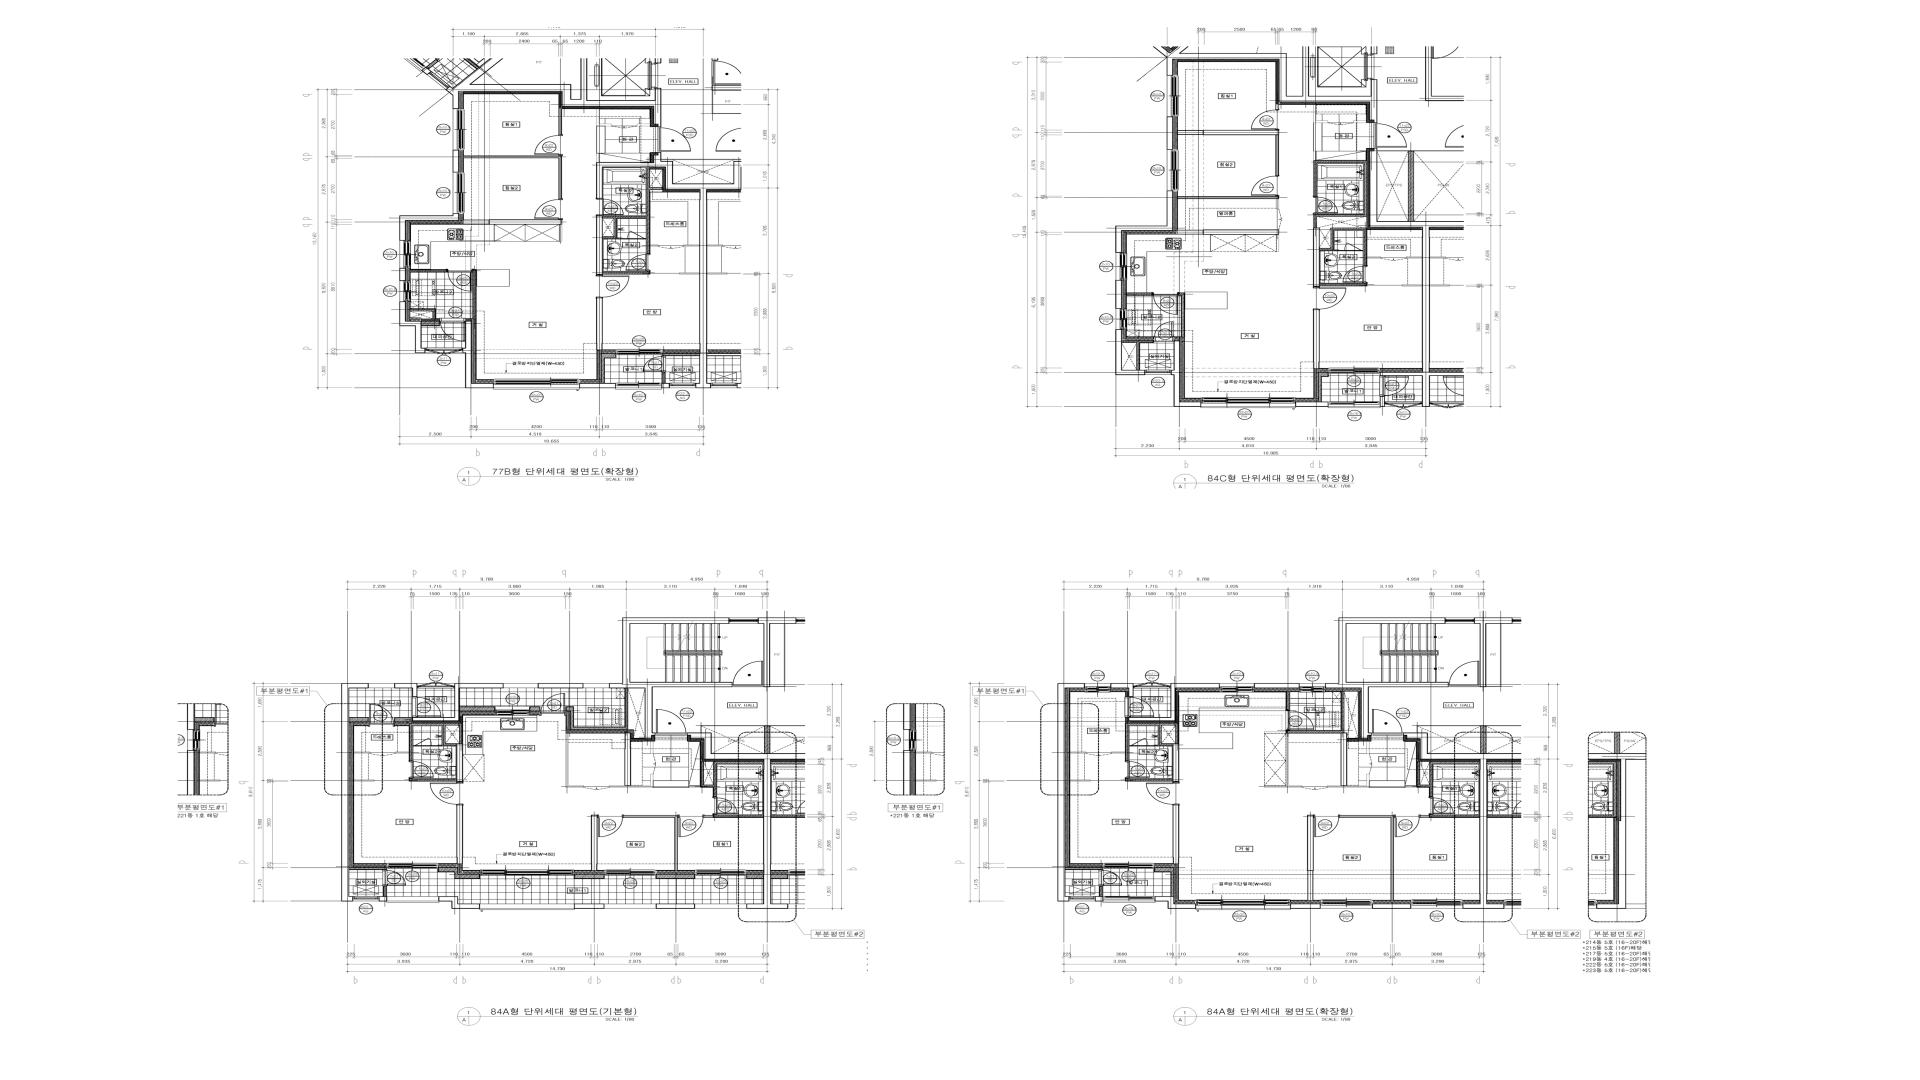door: (1449, 660, 1480, 687), (655, 709, 687, 735), (732, 661, 764, 687), (1374, 123, 1407, 148), (658, 127, 691, 152), (1146, 781, 1180, 805), (1313, 286, 1347, 310), (596, 274, 630, 298), (1372, 709, 1403, 735), (430, 782, 463, 805), (597, 814, 624, 837), (1152, 292, 1179, 315), (1313, 814, 1340, 837), (1251, 175, 1280, 196), (1251, 109, 1280, 130), (540, 693, 566, 716), (678, 814, 704, 837), (412, 697, 441, 717), (1125, 697, 1154, 717), (1380, 376, 1409, 396), (534, 135, 563, 155), (534, 199, 563, 219), (440, 318, 465, 341), (369, 703, 394, 726), (1394, 815, 1420, 837), (1286, 710, 1314, 730), (447, 269, 472, 291), (596, 198, 624, 215), (1343, 265, 1368, 283), (1313, 196, 1338, 214), (626, 253, 651, 271), (712, 797, 738, 814), (1125, 761, 1150, 778), (1429, 797, 1454, 814), (409, 761, 434, 778), (1154, 321, 1174, 342), (382, 870, 406, 886), (642, 356, 666, 372), (1099, 870, 1122, 886), (425, 347, 463, 355), (1385, 401, 1422, 408), (417, 682, 454, 688), (1344, 242, 1362, 251), (1131, 738, 1148, 746), (627, 231, 644, 239), (415, 738, 432, 746), (1086, 752, 1112, 756), (658, 245, 684, 249), (1302, 786, 1328, 790), (584, 786, 609, 790), (1381, 257, 1406, 261), (1277, 209, 1282, 229), (370, 752, 395, 756), (1328, 122, 1353, 125), (611, 126, 637, 128)
wall: (596, 152, 741, 388), (1370, 148, 1464, 407), (687, 732, 806, 909), (1153, 46, 1378, 123), (1325, 617, 1449, 739), (609, 617, 732, 739), (445, 58, 661, 127), (1403, 732, 1487, 909), (1265, 691, 1345, 788), (1057, 683, 1085, 901), (341, 683, 369, 901), (602, 167, 663, 254), (1340, 815, 1394, 901), (1177, 130, 1279, 175), (463, 155, 562, 199), (1313, 160, 1367, 228), (1115, 190, 1173, 252), (1128, 683, 1220, 721), (412, 683, 503, 721), (704, 764, 764, 818), (1421, 764, 1480, 818), (624, 815, 678, 871), (1319, 228, 1367, 286), (1474, 617, 1513, 687), (758, 617, 796, 687), (566, 688, 628, 730), (395, 723, 463, 761), (1112, 723, 1179, 761), (609, 732, 653, 787), (1328, 732, 1370, 788), (1177, 229, 1279, 252), (1416, 761, 1480, 797), (700, 761, 763, 797), (1425, 46, 1464, 101), (462, 321, 494, 388), (1171, 340, 1201, 407), (409, 746, 457, 781), (399, 213, 459, 241), (1125, 746, 1173, 781), (1115, 329, 1145, 375), (399, 302, 425, 353), (1177, 196, 1279, 209), (1486, 623, 1502, 687), (566, 733, 584, 788), (770, 623, 785, 687), (1122, 340, 1154, 370), (700, 725, 805, 732), (1417, 725, 1522, 732), (1307, 815, 1314, 901), (463, 219, 562, 225), (1154, 867, 1174, 896), (1155, 896, 1196, 909), (439, 896, 479, 909), (438, 867, 480, 879), (601, 353, 616, 383), (1408, 151, 1414, 221), (596, 215, 603, 274), (1313, 310, 1320, 369), (456, 805, 463, 864), (1313, 228, 1320, 286), (591, 815, 598, 871), (596, 298, 603, 350), (1173, 805, 1179, 864), (394, 683, 417, 697), (1111, 683, 1134, 697), (1319, 372, 1329, 402), (410, 308, 436, 319), (456, 743, 463, 782), (1179, 292, 1185, 337), (1314, 104, 1328, 123), (597, 109, 611, 126), (1173, 743, 1179, 782), (656, 903, 695, 909), (1254, 683, 1300, 688), (538, 683, 583, 688), (1115, 280, 1122, 309), (472, 269, 476, 319), (1167, 116, 1173, 149), (656, 874, 695, 879), (1372, 904, 1411, 909), (579, 383, 616, 388), (460, 706, 495, 711), (1296, 402, 1329, 407), (764, 726, 770, 753), (1481, 726, 1487, 753), (574, 874, 605, 879), (1291, 904, 1321, 909), (574, 904, 604, 909), (603, 271, 650, 274), (453, 150, 459, 172), (349, 867, 387, 870), (409, 269, 447, 272), (1065, 867, 1103, 870), (662, 353, 699, 356), (1126, 292, 1152, 296), (349, 717, 369, 722), (421, 321, 440, 326), (399, 268, 406, 281), (394, 717, 412, 722), (1378, 150, 1464, 151), (746, 874, 763, 879), (559, 108, 562, 135), (1286, 691, 1290, 711), (661, 159, 741, 160), (1380, 396, 1385, 407), (529, 706, 540, 711), (661, 383, 670, 388), (662, 372, 666, 383), (383, 886, 387, 896), (379, 896, 387, 901), (679, 272, 699, 274), (1402, 284, 1422, 286), (1095, 896, 1103, 901), (1070, 779, 1090, 781), (1099, 886, 1103, 896), (354, 779, 374, 781), (1367, 741, 1370, 754), (1353, 120, 1366, 123), (1406, 256, 1422, 258), (1070, 751, 1086, 753), (354, 751, 370, 753), (684, 244, 699, 246), (1367, 256, 1381, 258), (637, 124, 650, 126), (651, 741, 653, 754), (1276, 104, 1279, 109)
window: (1201, 397, 1296, 408), (1196, 899, 1291, 910), (480, 869, 574, 876), (479, 904, 574, 910), (494, 379, 579, 385), (1167, 149, 1179, 191), (1167, 75, 1179, 116), (1411, 899, 1463, 908), (1321, 899, 1372, 908), (1328, 401, 1380, 408), (605, 869, 656, 876), (494, 385, 579, 389), (457, 109, 465, 150), (1103, 896, 1155, 902), (1116, 252, 1127, 280), (387, 863, 438, 869), (495, 706, 529, 715), (1329, 368, 1380, 374), (1103, 863, 1154, 869), (1220, 683, 1254, 692), (457, 172, 464, 213), (616, 349, 662, 355), (387, 897, 439, 902), (695, 870, 746, 875), (1299, 683, 1326, 692), (1085, 683, 1111, 692), (1133, 682, 1171, 688), (1116, 309, 1127, 329), (604, 904, 656, 908), (695, 904, 747, 908), (404, 240, 411, 268), (503, 683, 538, 688), (729, 617, 758, 623), (1446, 617, 1474, 623), (453, 109, 457, 150), (453, 172, 457, 213), (404, 281, 411, 302), (399, 240, 404, 268), (616, 383, 661, 386), (616, 386, 661, 389), (353, 896, 379, 901), (583, 683, 609, 688), (1069, 896, 1095, 901), (1145, 370, 1171, 375), (670, 383, 696, 388), (369, 683, 394, 688), (400, 281, 404, 302)
